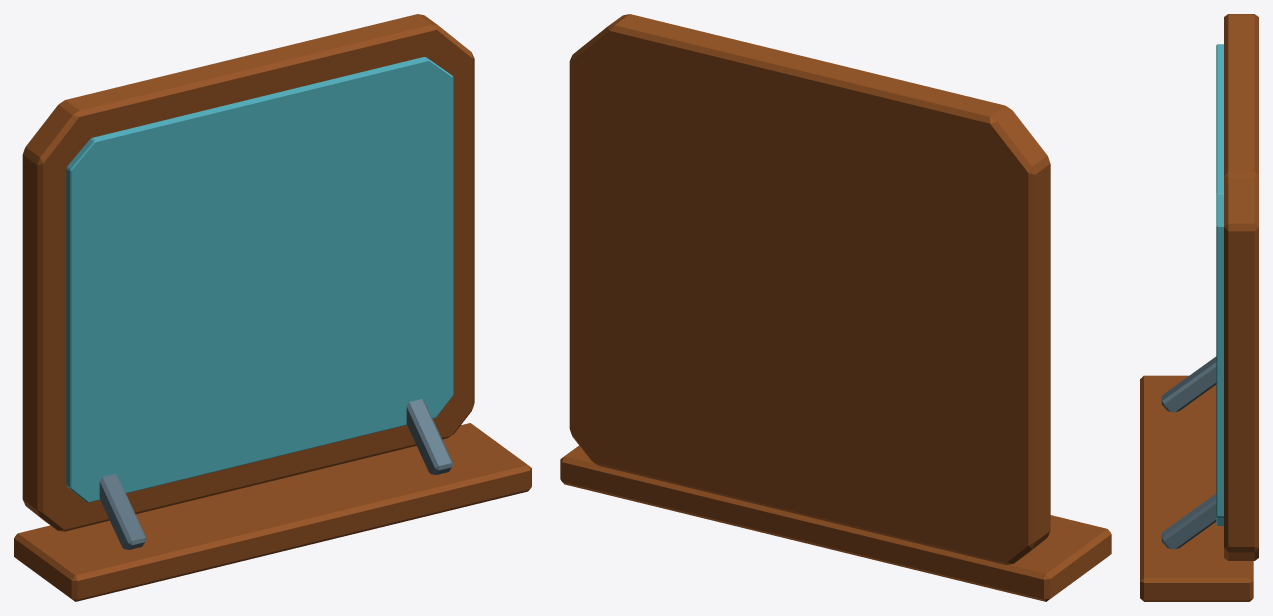
The model's file is EB_MirrorShelf.fbx.
The picture shows the model from 3 angles, left to right: view 1: azimuth 30°, elevation 25°; view 2: azimuth 150°, elevation 25°; view 3: azimuth 270°, elevation 25°; orthographic projection. The views are drawn at different scales.
Visible parts, largest first — view 1: EB_MirrorShelf; view 2: EB_MirrorShelf; view 3: EB_MirrorShelf.
Boxes of the visible parts, <box> form: EB_MirrorShelf: <box>14,14,531,601</box>; EB_MirrorShelf: <box>560,14,1111,601</box>; EB_MirrorShelf: <box>1140,14,1258,601</box>.
Bounding box in the file's own units: 0.6 × 0.555 × 0.1465.
